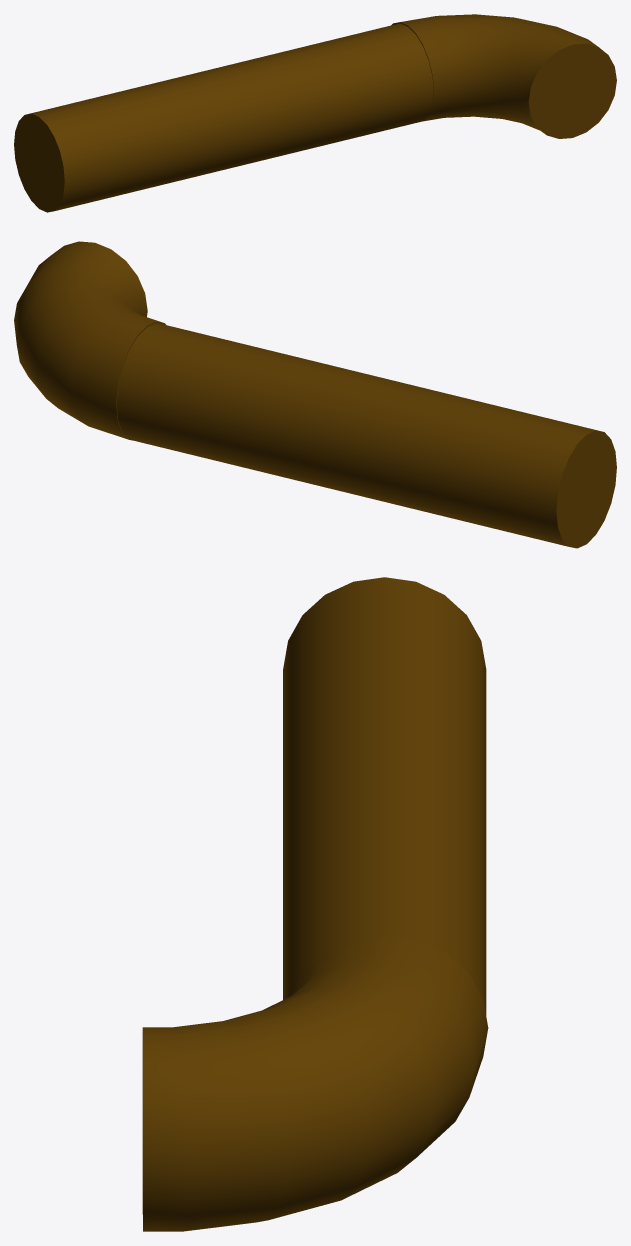
The model's file is 48_Fallen_pipe1.fbx.
3 renders of one model, top to bottom at view 1: azimuth 30°, elevation 25°; view 2: azimuth 150°, elevation 25°; view 3: azimuth 270°, elevation 25°, orthographic. The views are drawn at different scales.
Parts seen in each view (by area): view 1: pCylinder187; view 2: pCylinder187; view 3: pCylinder187.
Part boxes in pixels (<box>): pCylinder187: <box>14,14,616,212</box>; pCylinder187: <box>14,241,616,548</box>; pCylinder187: <box>142,577,488,1231</box>.
Size of the model in its own units: 0.7508 by 0.1297 by 0.2173.
